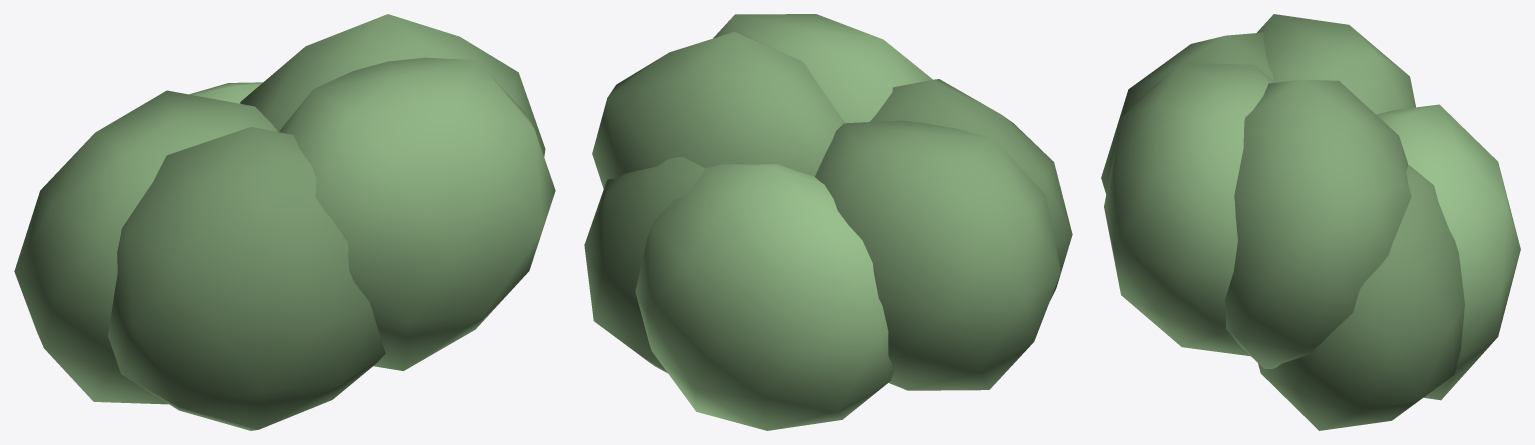
The model's file is env_shrub_round_b_v001.glb.
3 renders of one model, left to right at view 1: azimuth 30°, elevation 25°; view 2: azimuth 150°, elevation 25°; view 3: azimuth 270°, elevation 25°, orthographic. The views are drawn at different scales.
Parts seen in each view (by area): view 1: env_shrub_round_b_LOD0_mesh; view 2: env_shrub_round_b_LOD0_mesh; view 3: env_shrub_round_b_LOD0_mesh.
Part boxes in pixels (left/top/right/bottom): env_shrub_round_b_LOD0_mesh: left=14, top=14, right=555, bottom=430; env_shrub_round_b_LOD0_mesh: left=584, top=14, right=1072, bottom=430; env_shrub_round_b_LOD0_mesh: left=1101, top=14, right=1520, bottom=430.
Size of the model in its own units: 1.5 by 1.1 by 1.2.
